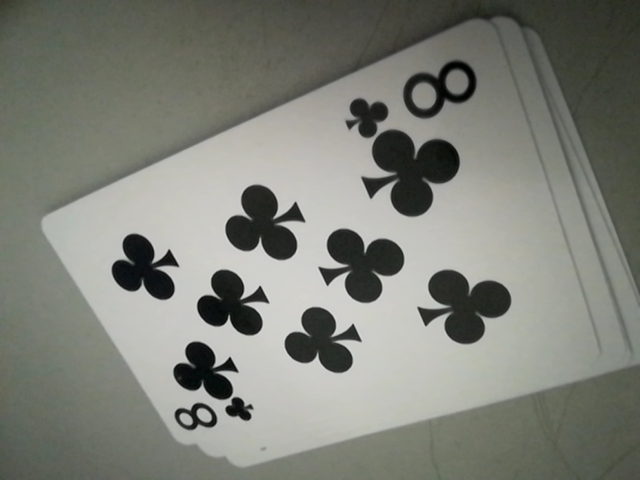mh 8: (342, 50, 488, 136), (166, 394, 254, 440)
